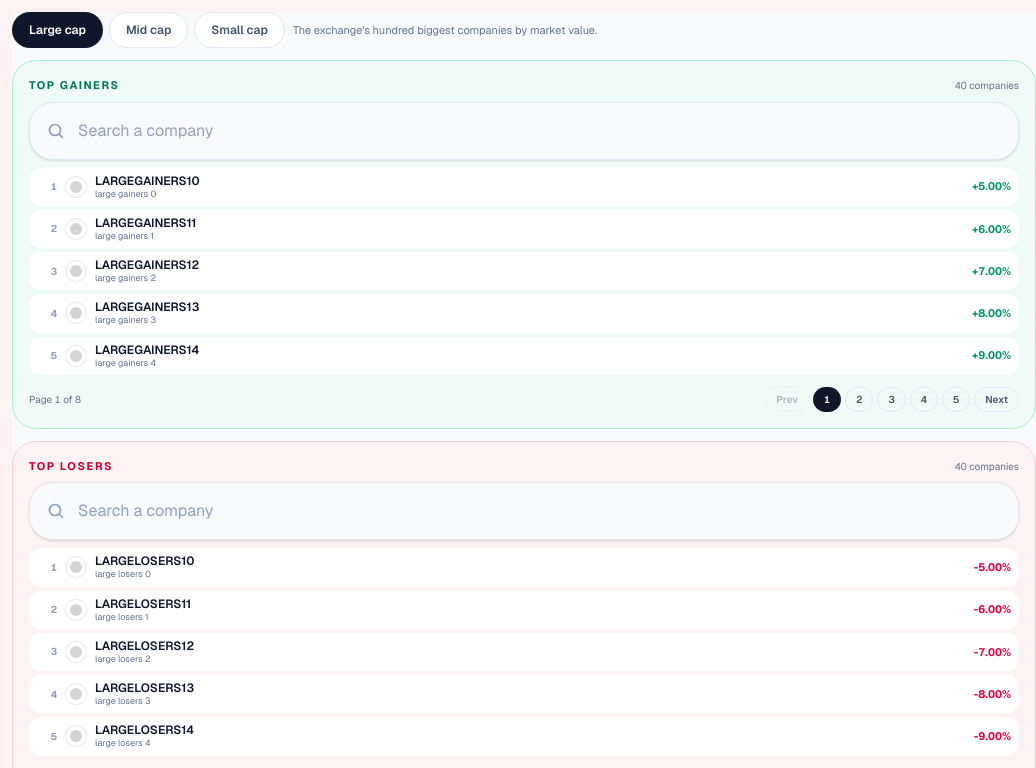
Test case: TierMovers › numbers rows by their place in the whole ranking, not the page
Check: the text "1" below "Top gainers" is shown, box [51, 180, 57, 193]
Click the 1st button "Next" at [997, 399], box [974, 387, 1019, 412]
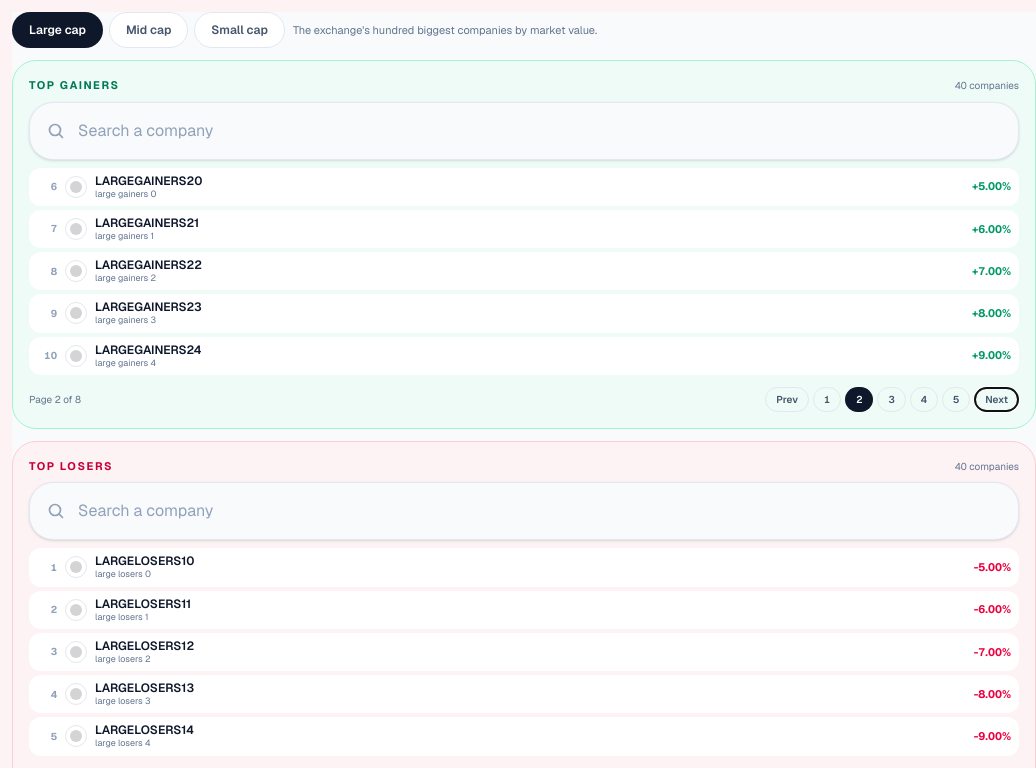
Check: the text "6" is shown, box [51, 180, 57, 193]
